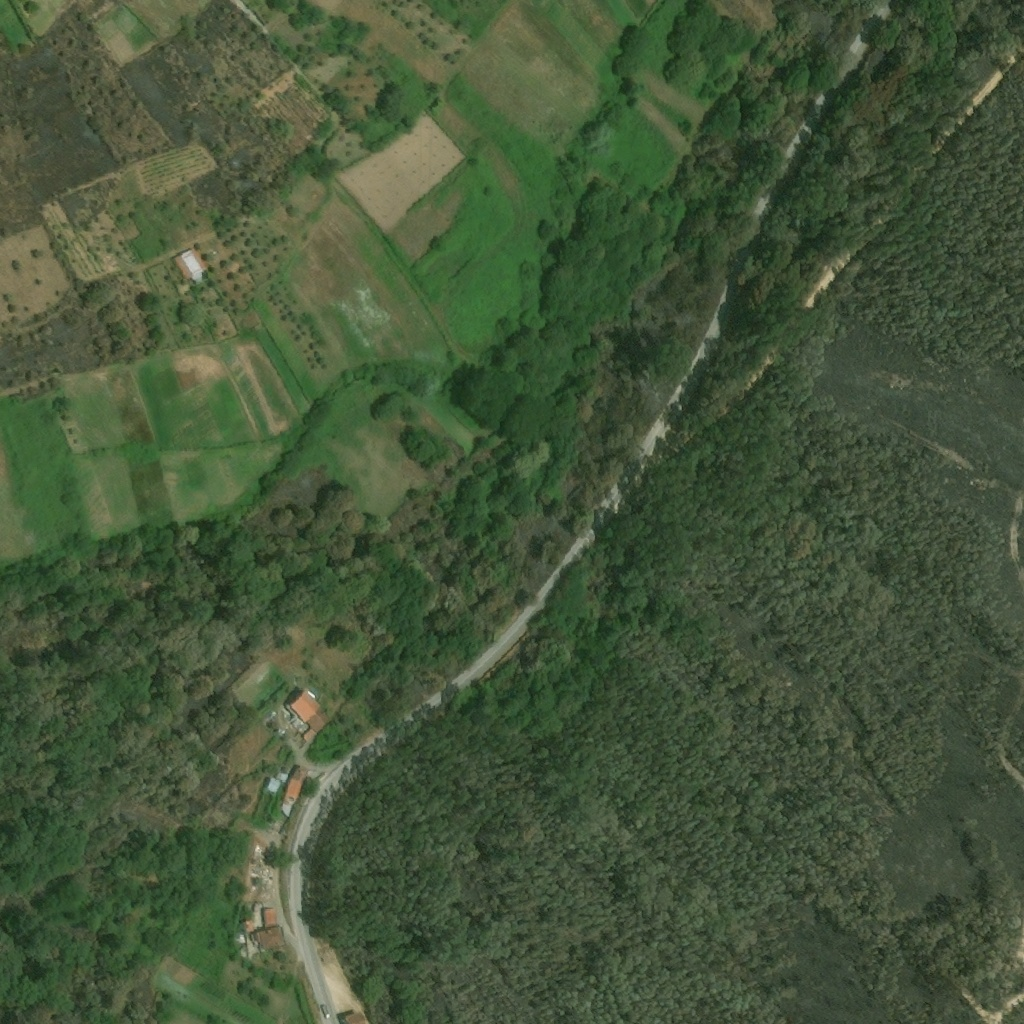0 no-damage: (290, 689, 325, 743), (175, 246, 208, 282), (279, 776, 302, 817), (255, 926, 284, 952), (265, 778, 281, 795), (343, 1013, 367, 1023), (263, 909, 276, 926), (274, 773, 288, 783), (234, 934, 245, 944), (246, 920, 253, 932)
